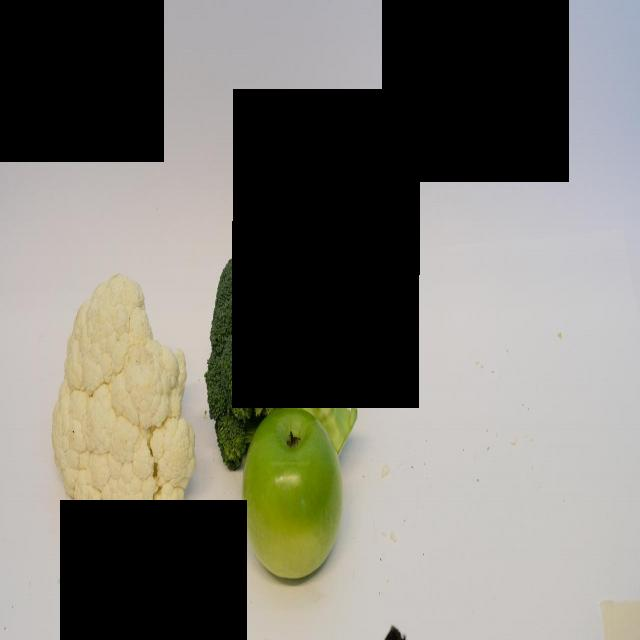apple: (248, 404, 338, 584)
broccoli: (210, 222, 362, 466)
cauliflower: (54, 264, 192, 540)
